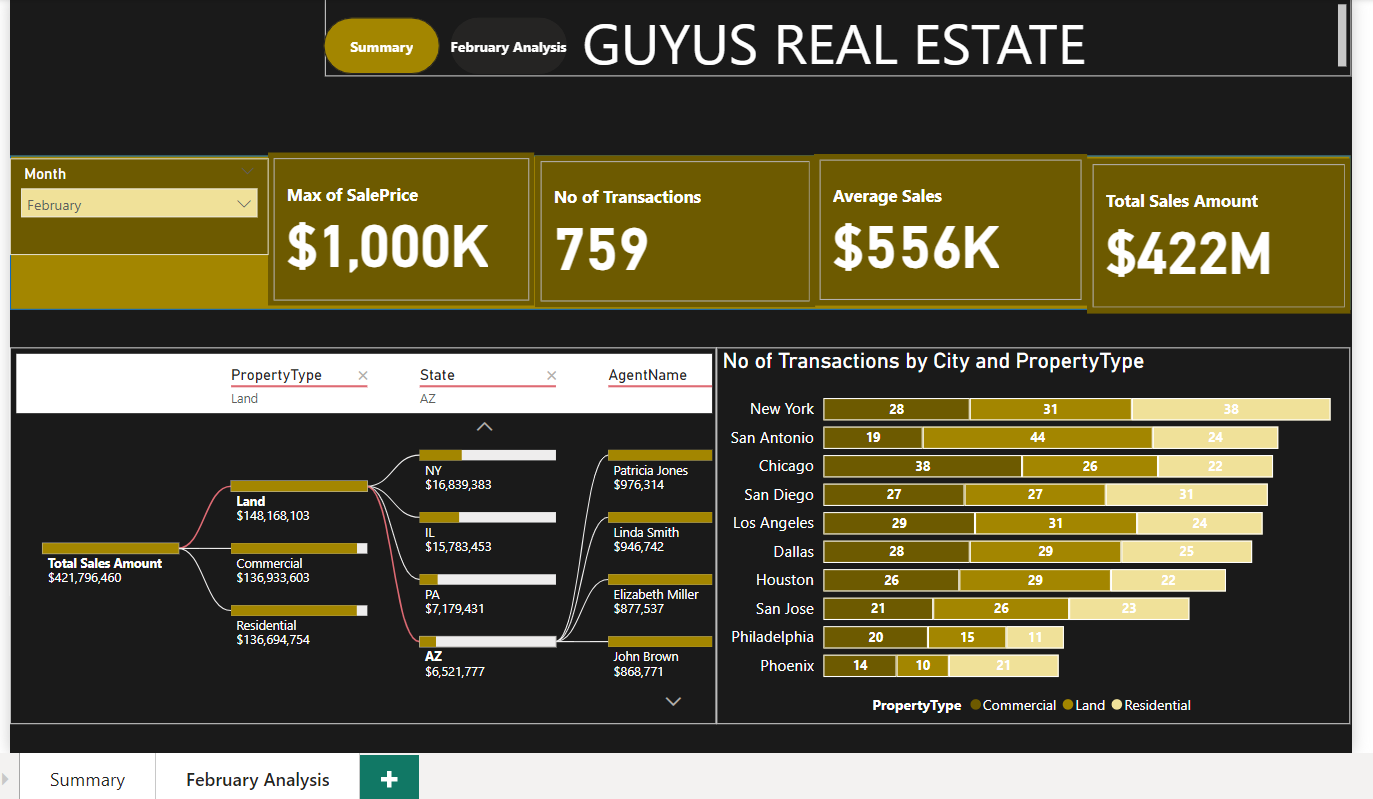

The dashboard page shown, as its layout file describes it:
{"tool":"powerbi","page":{"name":"February Analysis","canvas":[1280,720],"ordinal":1},"visuals":[{"type":"shape","box":[0,149.9,1279.2,147.3],"z":0},{"type":"cardVisual","fields":{"Data":["Calculated Measures.No of Transactions"]},"box":[500.7,151,267,144.6],"z":1000},{"type":"cardVisual","fields":{"Data":["Calculated Measures.Average Sales"]},"box":[767.7,149.4,260.7,144.6],"z":2000},{"type":"cardVisual","fields":{"Data":["Calculated Measures.Total Sales Amount"]},"box":[1028.3,152.6,251.1,147.8],"z":3000},{"type":"cardVisual","fields":{"Data":["RealEstate Data.SalePrice"]},"box":[246.4,147.8,254.3,146.2],"z":4000},{"type":"textbox","box":[300.4,0,979.1,74.7],"z":5000},{"type":"slicer","fields":{"Values":["Calender Dim.Month"]},"box":[0,152.6,246.4,92.2],"z":6000},{"type":"pageNavigator","box":[298.8,19.1,233.6,54],"z":7000},{"type":"decompositionTreeVisual","fields":{"Analyze":["Calculated Measures.Total Sales Amount"],"ExplainBy":["Property Dim.PropertyType","Location Dim.State","Agent Dim.AgentName"]},"box":[0,333.4,674.2,359.1],"z":8000},{"type":"barChart","fields":{"Category":["Location Dim.City"],"Series":["Property Dim.PropertyType"],"Y":["Calculated Measures.No of Transactions"]},"box":[674.2,333.4,604.9,359.1],"z":9000}]}

Visuals, with their boxes on the page's 1280x720 design canvas (x1, y1, x2, y2). These are canvas units, not pixel positions in the 1373x799 screenshot, which may show the page scaled, cropped or inside an application window:
shape: BBox(0, 150, 1279, 297)
cardVisual - Calculated Measures.No of Transactions: BBox(501, 151, 768, 296)
cardVisual - Calculated Measures.Average Sales: BBox(768, 149, 1028, 294)
cardVisual - Calculated Measures.Total Sales Amount: BBox(1028, 153, 1279, 300)
cardVisual - RealEstate Data.SalePrice: BBox(246, 148, 501, 294)
textbox: BBox(300, 0, 1280, 75)
slicer - Calender Dim.Month: BBox(0, 153, 246, 245)
pageNavigator: BBox(299, 19, 532, 73)
decompositionTreeVisual - Calculated Measures.Total Sales Amount x Property Dim.PropertyType: BBox(0, 333, 674, 692)
barChart - Location Dim.City x Property Dim.PropertyType: BBox(674, 333, 1279, 692)
